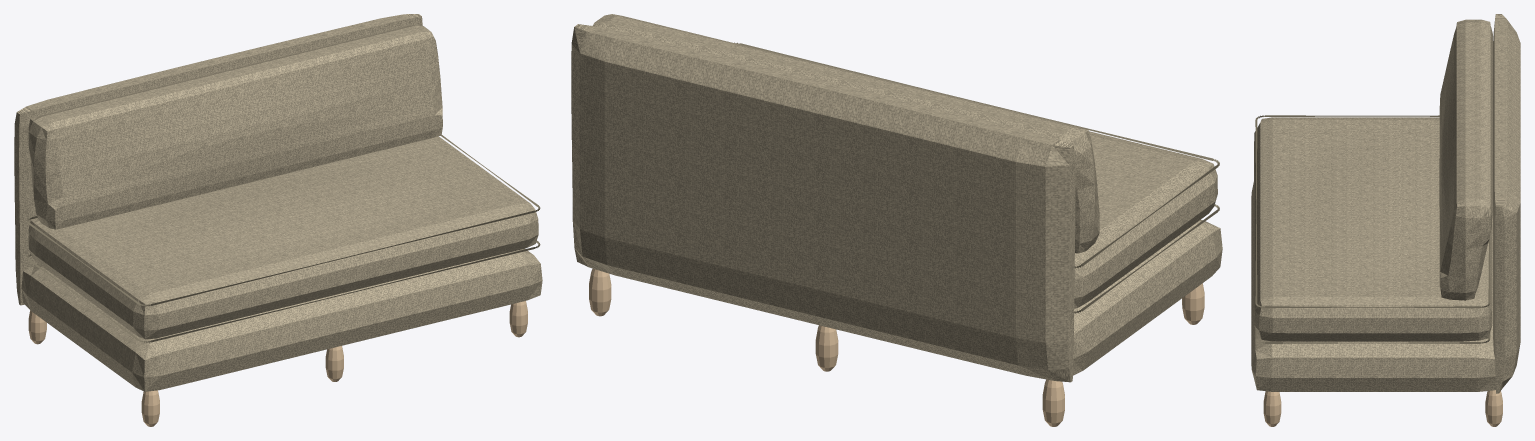
File: CAL-LOV-std.glb
3 views of the same model, side by side, from view 1: azimuth 30°, elevation 25°; view 2: azimuth 150°, elevation 25°; view 3: azimuth 270°, elevation 25° (orthographic). The views are drawn at different scales.
Visible parts, largest first — view 1: seat:fabric:eyJwcmVzZXQiOiJib3VjbGUiLCJ3YXJwIjoib2F0Iiwid2Vm, inside-back:fabric:eyJwcmVzZXQiOiJib3VjbGUiLCJ3YXJwIjoib2F0I, deck:fabric:eyJwcmVzZXQiOiJib3VjbGUiLCJ3YXJwIjoib2F0Iiwid2Vm, back-pad:fabric:eyJwcmVzZXQiOiJib3VjbGUiLCJ3YXJwIjoib2F0Iiwi, seat:piping:pbr, leg-fl:pbr, leg-fr:pbr, leg-cf:pbr; view 2: back-pad:fabric:eyJwcmVzZXQiOiJib3VjbGUiLCJ3YXJwIjoib2F0Iiwi, seat:fabric:eyJwcmVzZXQiOiJib3VjbGUiLCJ3YXJwIjoib2F0Iiwid2Vm, inside-back:fabric:eyJwcmVzZXQiOiJib3VjbGUiLCJ3YXJwIjoib2F0I, deck:fabric:eyJwcmVzZXQiOiJib3VjbGUiLCJ3YXJwIjoib2F0Iiwid2Vm, seat:piping:pbr, leg-bl:pbr, leg-br:pbr, leg-cb:pbr, leg-fl:pbr; view 3: seat:fabric:eyJwcmVzZXQiOiJib3VjbGUiLCJ3YXJwIjoib2F0Iiwid2Vm, inside-back:fabric:eyJwcmVzZXQiOiJib3VjbGUiLCJ3YXJwIjoib2F0I, deck:fabric:eyJwcmVzZXQiOiJib3VjbGUiLCJ3YXJwIjoib2F0Iiwid2Vm, back-pad:fabric:eyJwcmVzZXQiOiJib3VjbGUiLCJ3YXJwIjoib2F0Iiwi, seat:piping:pbr, leg-fr:pbr, leg-br:pbr.
Boxes of the visible parts, x1=… form: seat:fabric:eyJwcmVzZXQiOiJib3VjbGUiLCJ3YXJwIjoib2F0Iiwid2Vm: x1=28, y1=136, x2=538, y2=339; inside-back:fabric:eyJwcmVzZXQiOiJib3VjbGUiLCJ3YXJwIjoib2F0I: x1=28, y1=24, x2=442, y2=229; deck:fabric:eyJwcmVzZXQiOiJib3VjbGUiLCJ3YXJwIjoib2F0Iiwid2Vm: x1=21, y1=248, x2=542, y2=391; back-pad:fabric:eyJwcmVzZXQiOiJib3VjbGUiLCJ3YXJwIjoib2F0Iiwi: x1=14, y1=14, x2=422, y2=305; seat:piping:pbr: x1=27, y1=135, x2=540, y2=342; leg-fl:pbr: x1=141, y1=390, x2=159, y2=426; leg-fr:pbr: x1=509, y1=301, x2=527, y2=337; leg-cf:pbr: x1=325, y1=346, x2=343, y2=381; back-pad:fabric:eyJwcmVzZXQiOiJib3VjbGUiLCJ3YXJwIjoib2F0Iiwi: x1=571, y1=24, x2=1075, y2=382; seat:fabric:eyJwcmVzZXQiOiJib3VjbGUiLCJ3YXJwIjoib2F0Iiwid2Vm: x1=1074, y1=131, x2=1217, y2=308; inside-back:fabric:eyJwcmVzZXQiOiJib3VjbGUiLCJ3YXJwIjoib2F0I: x1=592, y1=14, x2=1099, y2=253; deck:fabric:eyJwcmVzZXQiOiJib3VjbGUiLCJ3YXJwIjoib2F0Iiwid2Vm: x1=1073, y1=219, x2=1222, y2=375; seat:piping:pbr: x1=734, y1=42, x2=1219, y2=313; leg-bl:pbr: x1=1042, y1=379, x2=1064, y2=426; leg-br:pbr: x1=589, y1=268, x2=611, y2=316; leg-cb:pbr: x1=815, y1=325, x2=838, y2=371; leg-fl:pbr: x1=1182, y1=283, x2=1204, y2=324; seat:fabric:eyJwcmVzZXQiOiJib3VjbGUiLCJ3YXJwIjoib2F0Iiwid2Vm: x1=1254, y1=117, x2=1492, y2=341; inside-back:fabric:eyJwcmVzZXQiOiJib3VjbGUiLCJ3YXJwIjoib2F0I: x1=1439, y1=19, x2=1492, y2=300; deck:fabric:eyJwcmVzZXQiOiJib3VjbGUiLCJ3YXJwIjoib2F0Iiwid2Vm: x1=1251, y1=182, x2=1495, y2=391; back-pad:fabric:eyJwcmVzZXQiOiJib3VjbGUiLCJ3YXJwIjoib2F0Iiwi: x1=1493, y1=14, x2=1520, y2=393; seat:piping:pbr: x1=1255, y1=115, x2=1490, y2=343; leg-fr:pbr: x1=1263, y1=391, x2=1281, y2=426; leg-br:pbr: x1=1485, y1=390, x2=1502, y2=426.
Bounding box in the file's own units: 1.45 × 0.8 × 0.85.
11 materials, 4 textured.
